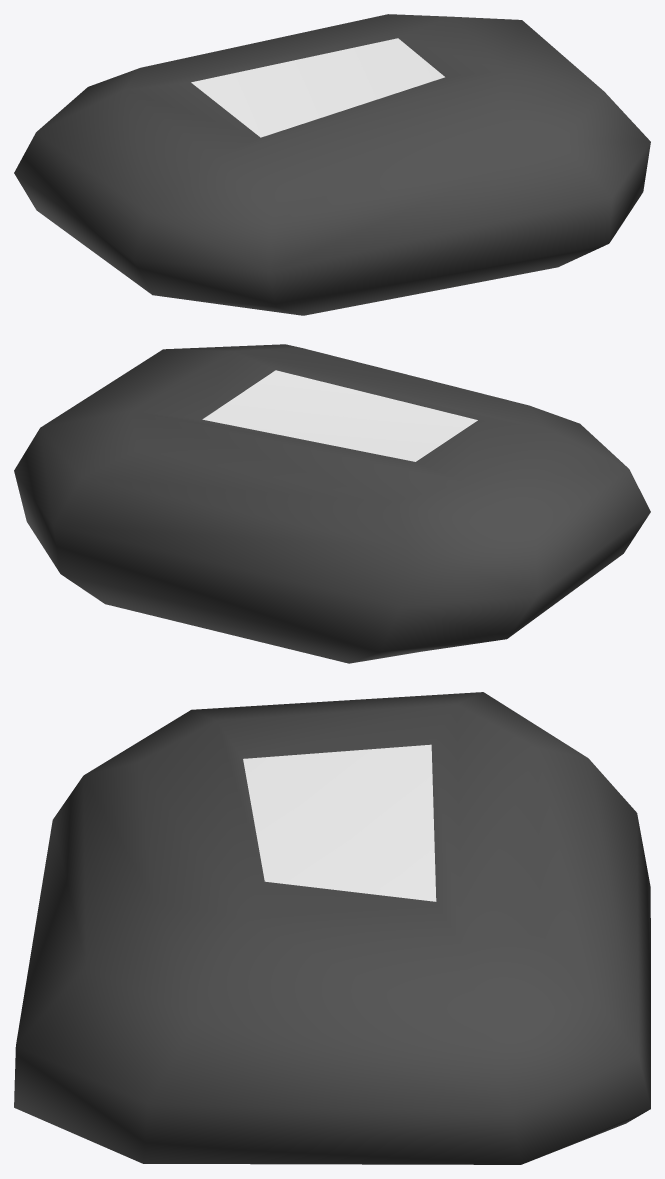
The model's file is Props_Package_06.fbx.
3 views of the same model, one above another, from view 1: azimuth 30°, elevation 25°; view 2: azimuth 150°, elevation 25°; view 3: azimuth 270°, elevation 25° (orthographic). The views are drawn at different scales.
Visible parts, largest first — view 1: Props_Package_06; view 2: Props_Package_06; view 3: Props_Package_06.
Boxes of the visible parts, left/top/right/bottom form: Props_Package_06: left=14, top=14, right=650, bottom=315; Props_Package_06: left=14, top=344, right=650, bottom=663; Props_Package_06: left=14, top=692, right=650, bottom=1164.
Bounding box in the file's own units: 63.85 × 18.36 × 47.65.
